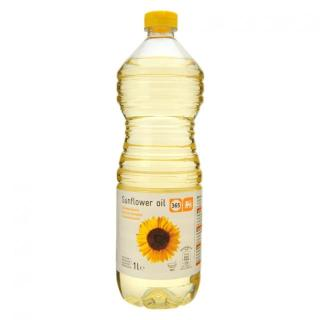Plastic-bottle: (111, 9, 211, 309)
